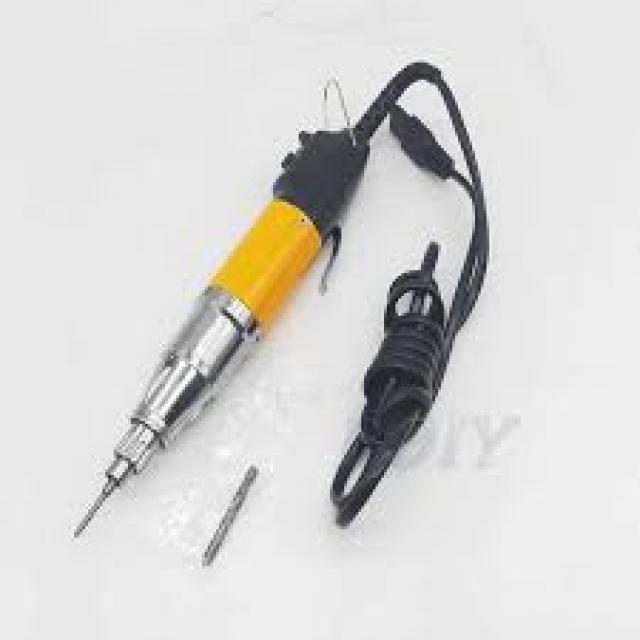drill: (54, 59, 512, 542)
